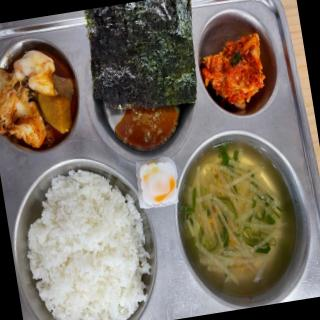Nasi: (15, 164, 158, 320)
